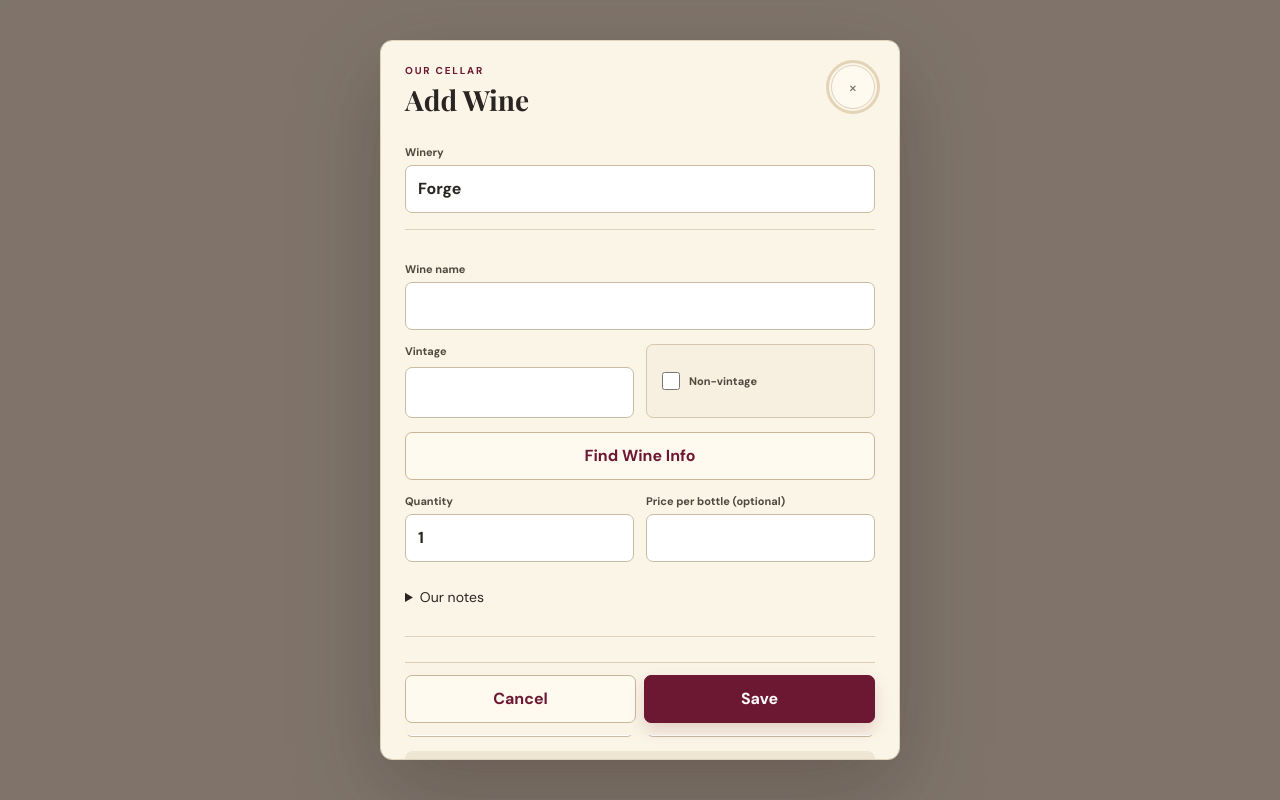
discards out-of-order results when identity changes and clears accepted info
Step 1. Type "Old Wine" into the field labelled "Wine name" → (640, 306), box [405,282,875,330]
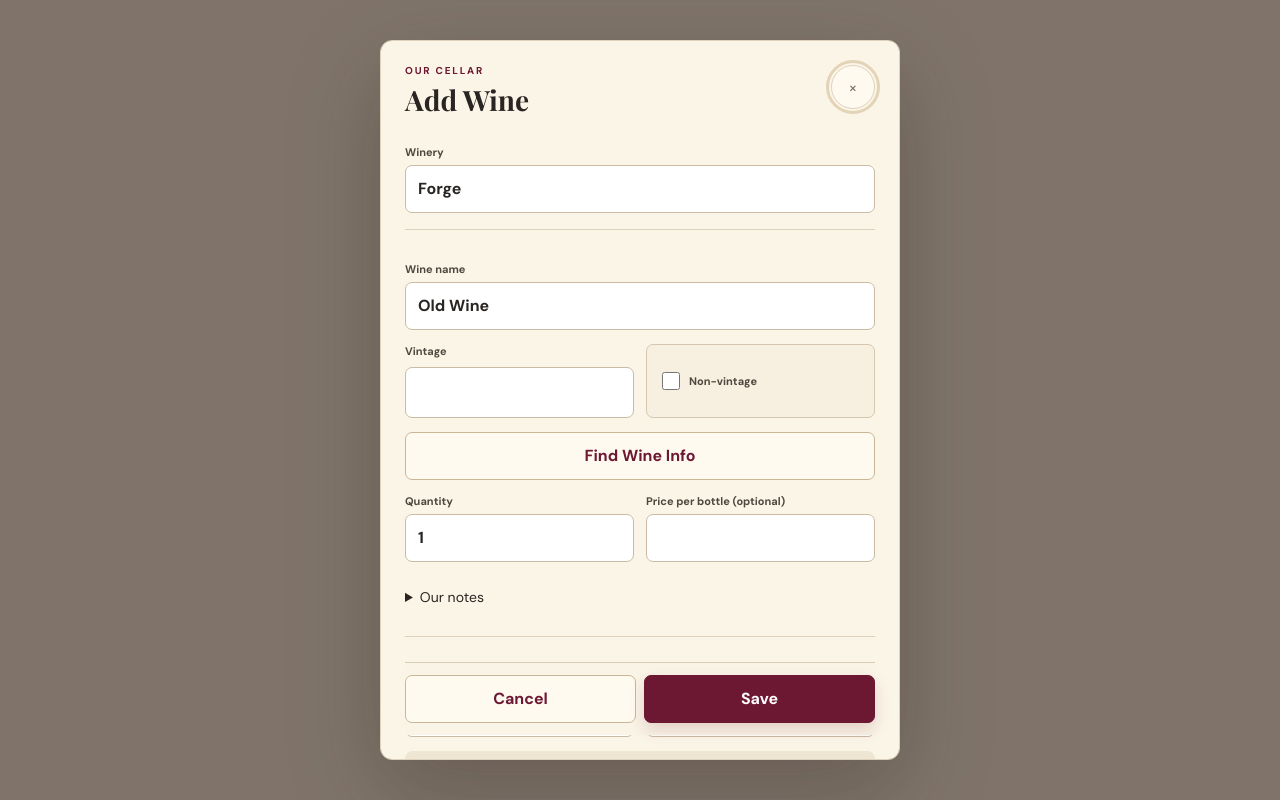
Step 2. Type "2023" into the number field labelled "Vintage" → (520, 392), box [405,367,634,418]
Wait 1000 ms
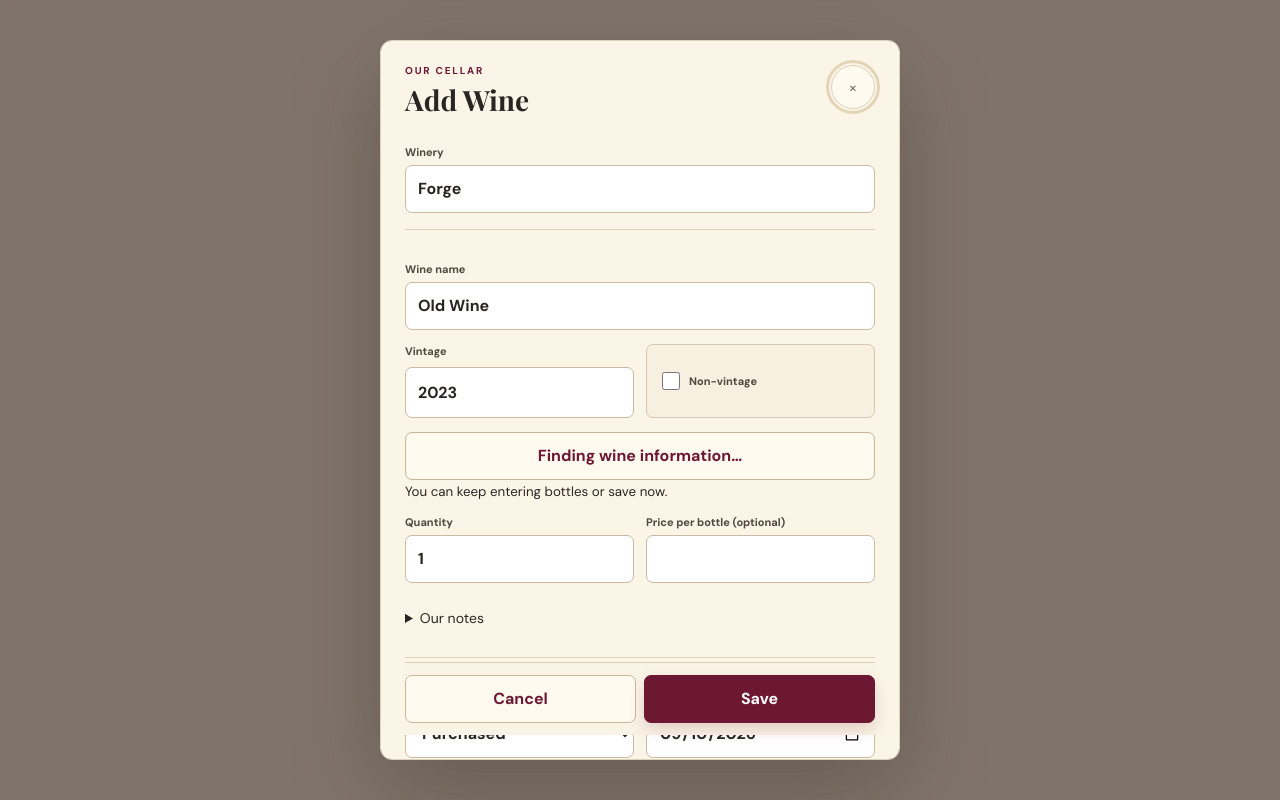
Step 3. Replace the text in the field labelled "Wine name" with "New Wine" → (640, 306), box [405,282,875,330]
Wait 1000 ms
(page scrolled)
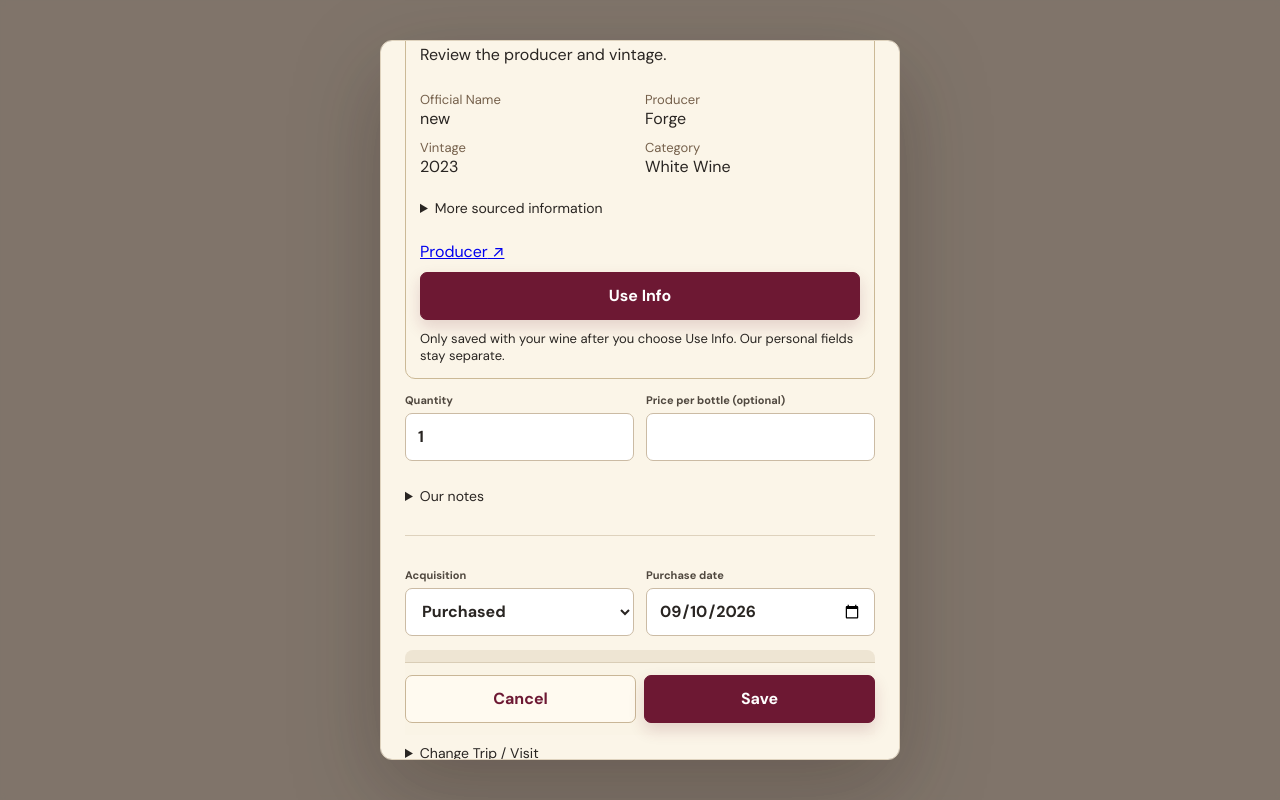
Expected: the text "old" is not shown
Now the text "new" is shown, box [420,108,450,129]
Step 4. Click the button "Use Info" → (640, 296), box [420,272,860,320]
(page scrolled)
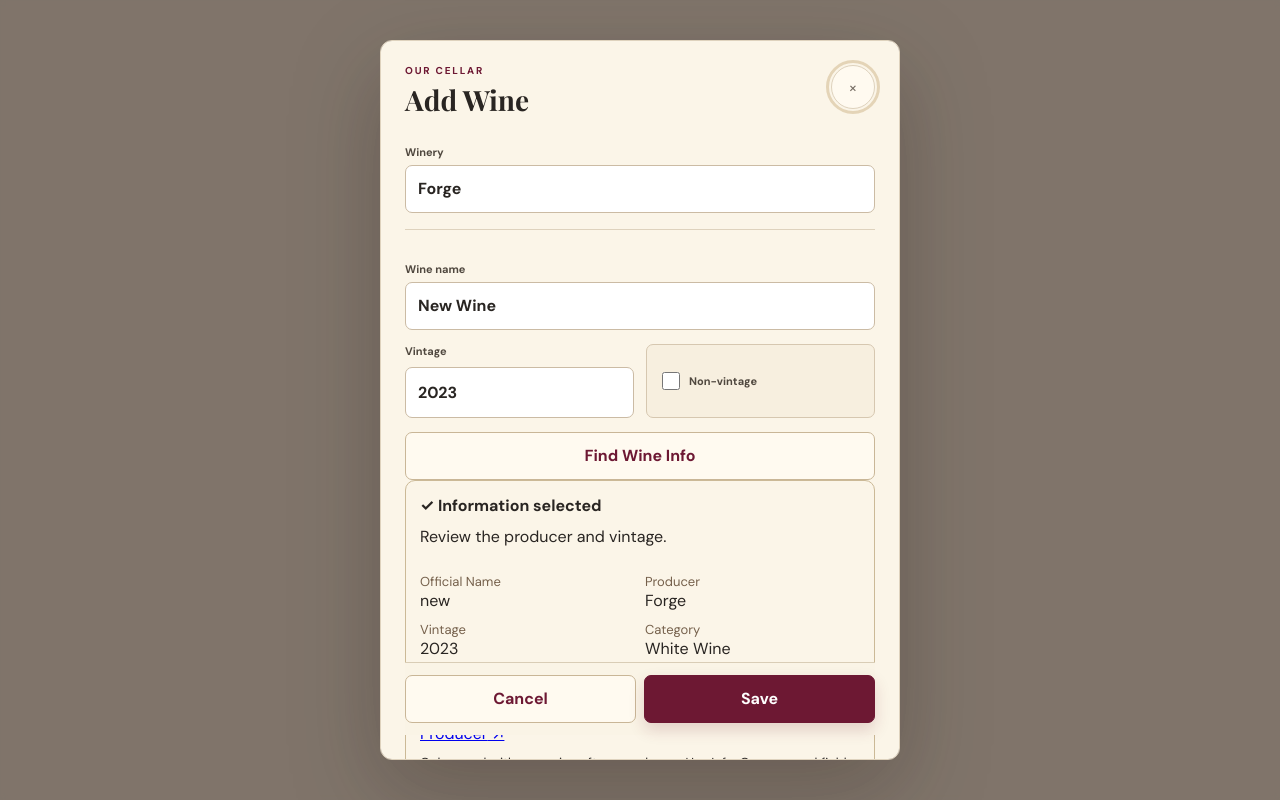
Step 5. Replace the text in the search field labelled "Winery" with "Other Winery" → (640, 189), box [405,165,875,213]
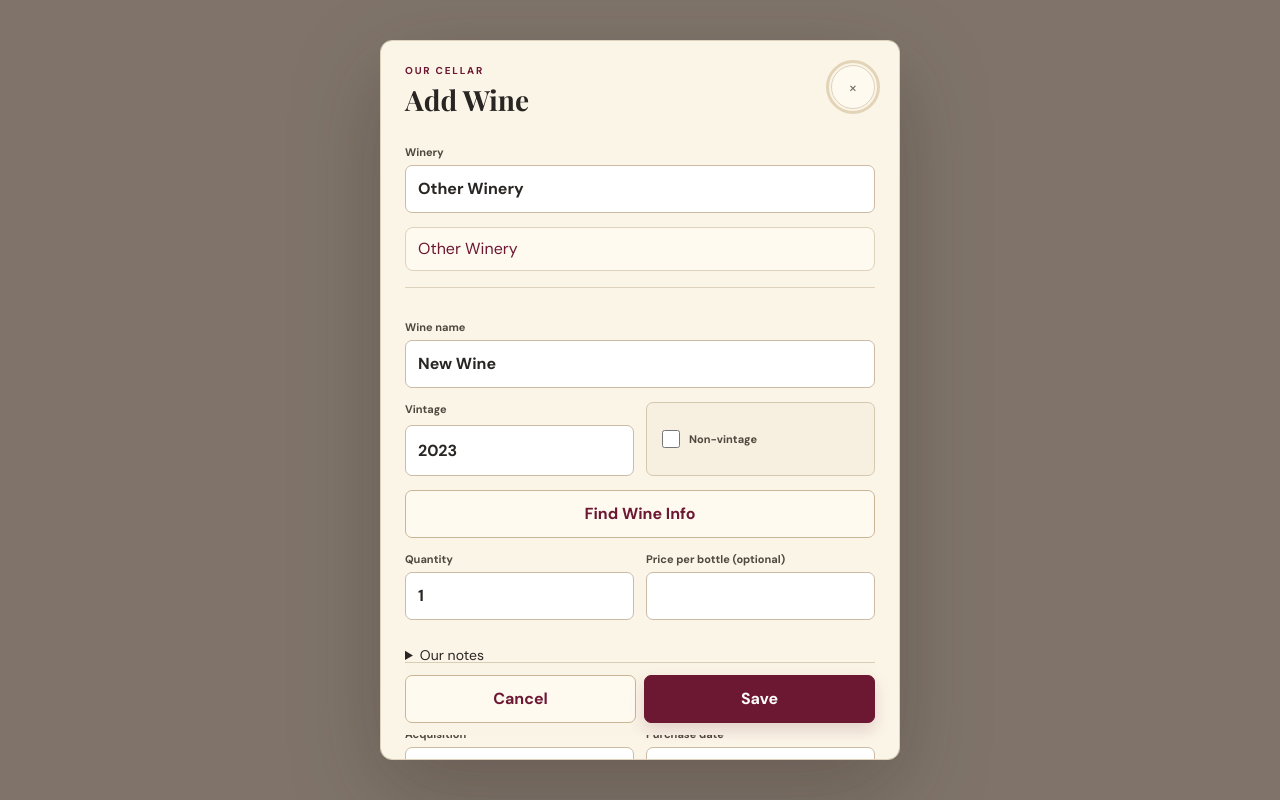
Now the text "✓ Information selected" is gone
Now the text "Use Info" is gone
